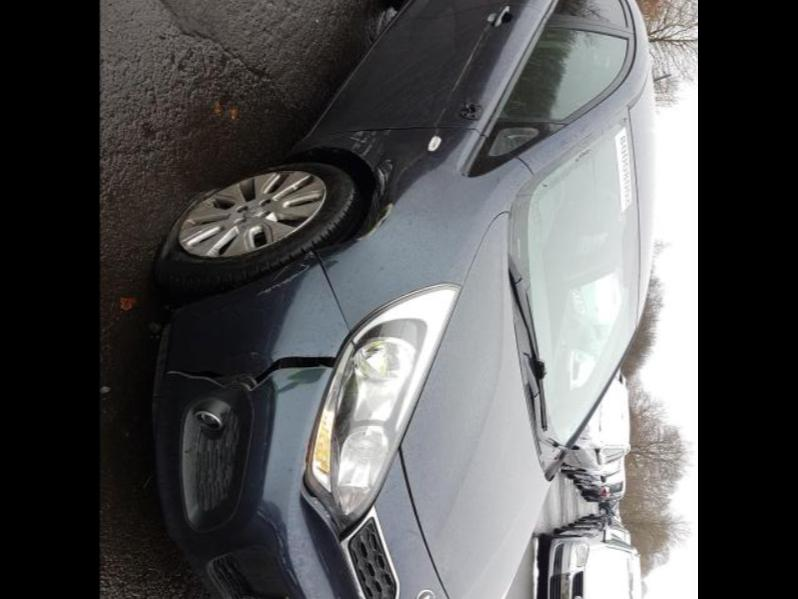Broken part: (166, 338, 348, 392), (310, 248, 350, 332), (300, 475, 346, 534)
Dent: (268, 124, 402, 284), (264, 332, 334, 396)
Missing part: (454, 90, 488, 118)
Paint chip: (360, 200, 394, 238)
Scratch: (350, 126, 396, 224), (256, 262, 312, 294)
